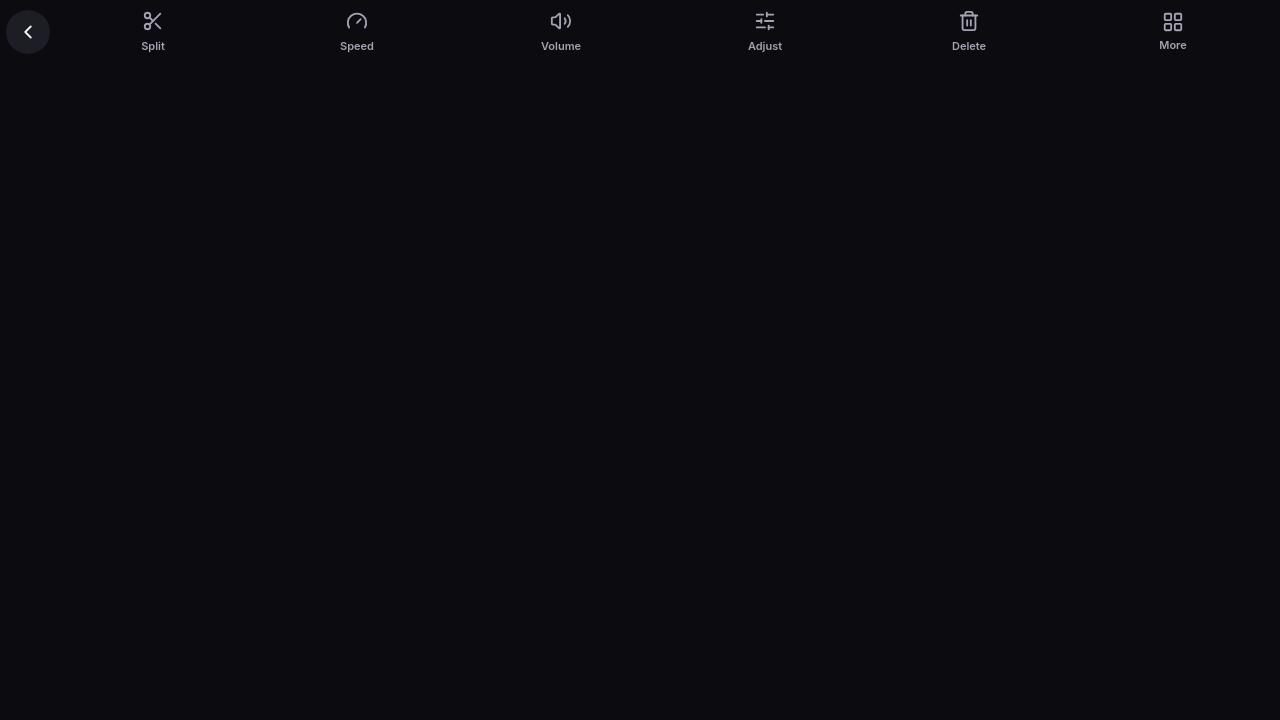
Test: tool bar and sheets (phone) › switches to clip tools on selection and edits through a clip panel
Expected: the button "Captions" is not shown
Click the button "Speed" at (357, 32), box top-left (256, 4), bottom-right (458, 60)
(page scrolled)
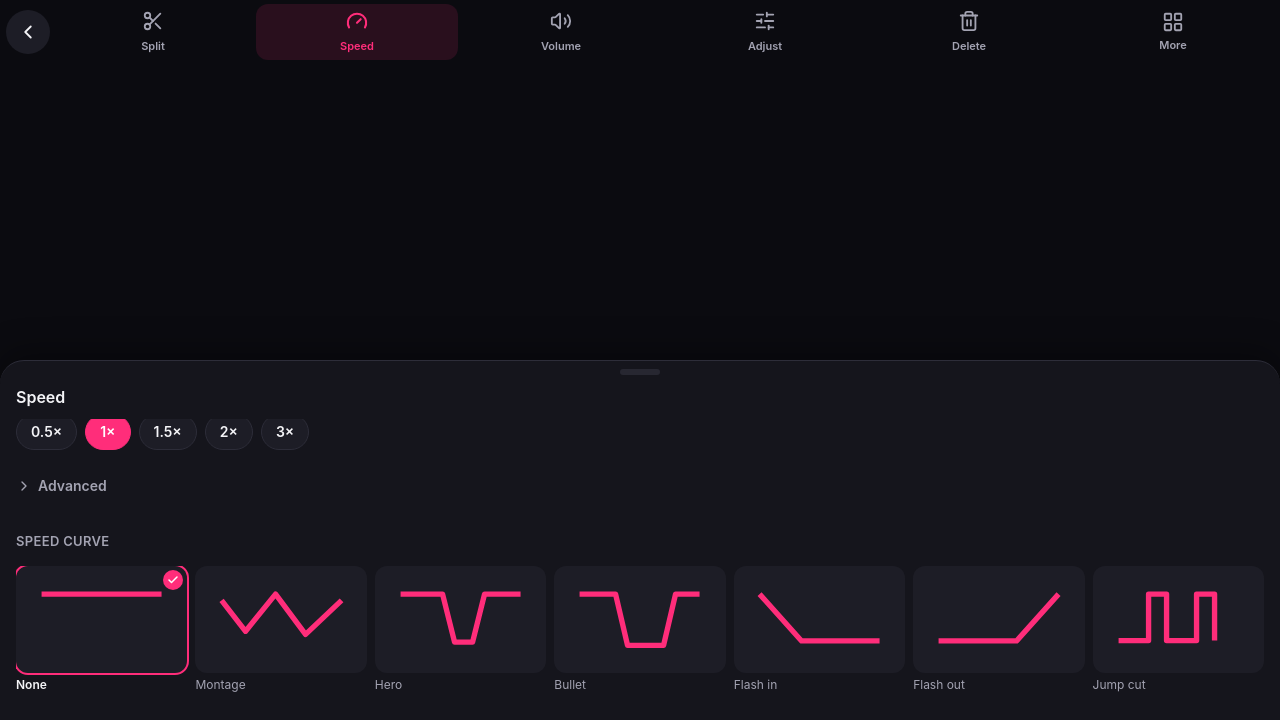
Click the button "Bullet" at (640, 630), box top-left (554, 566), bottom-right (726, 693)
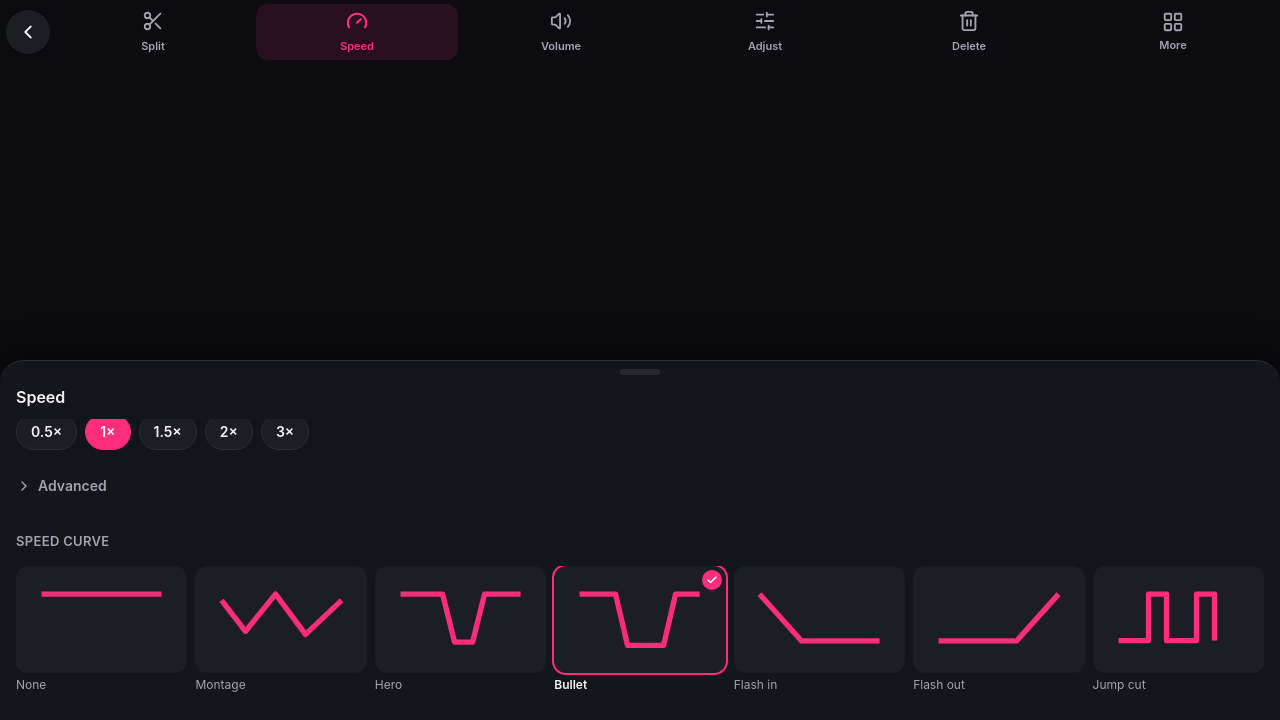
Now the button "Bullet" is pressed, box top-left (554, 566), bottom-right (726, 693)
Click the button named "Done" at (28, 32), box top-left (6, 10), bottom-right (50, 54)
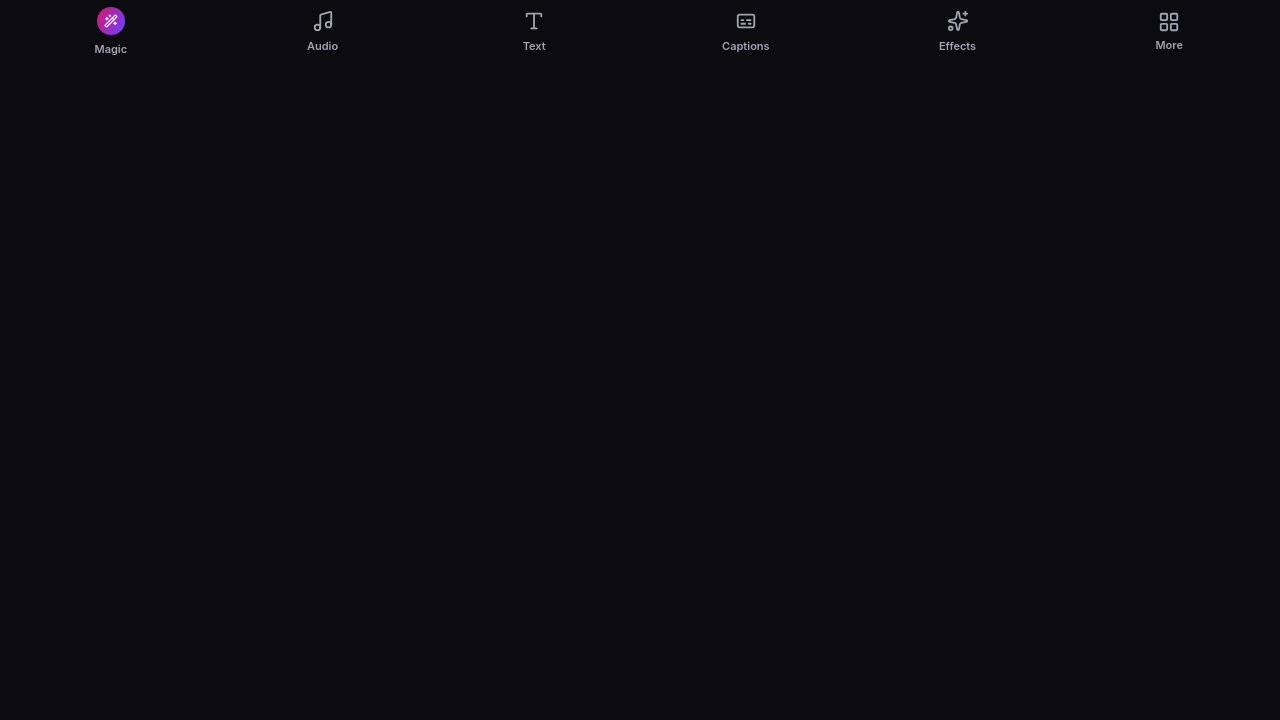
Now the button "Captions" is shown, box top-left (641, 4), bottom-right (851, 60)
